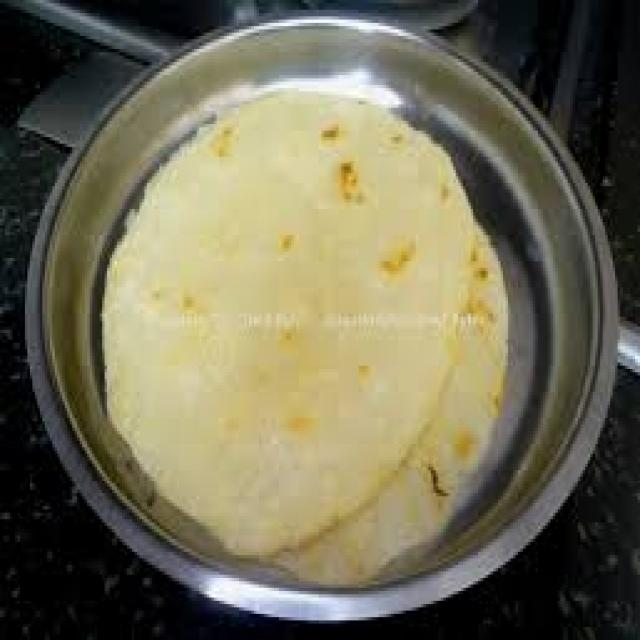RICE BHAKRI: (100, 95, 503, 568)
